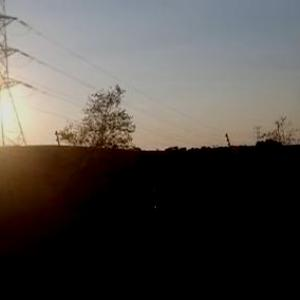follow: (130, 158, 203, 299)
